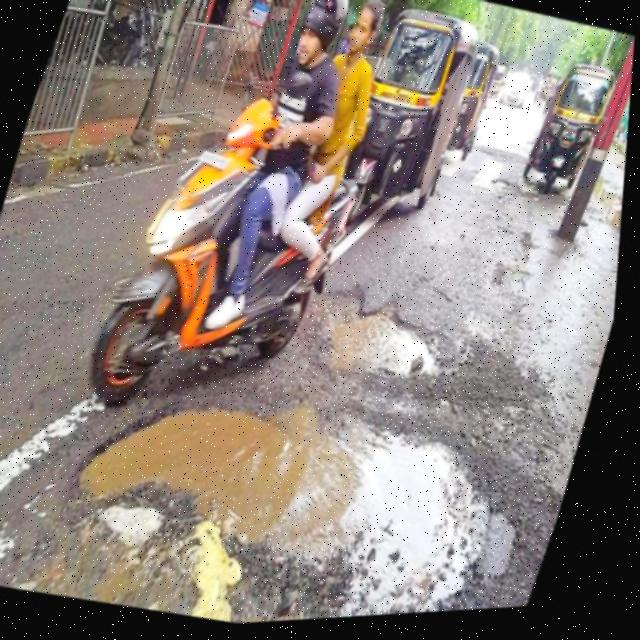Pothole: (96, 362, 527, 634), (316, 275, 462, 411)
